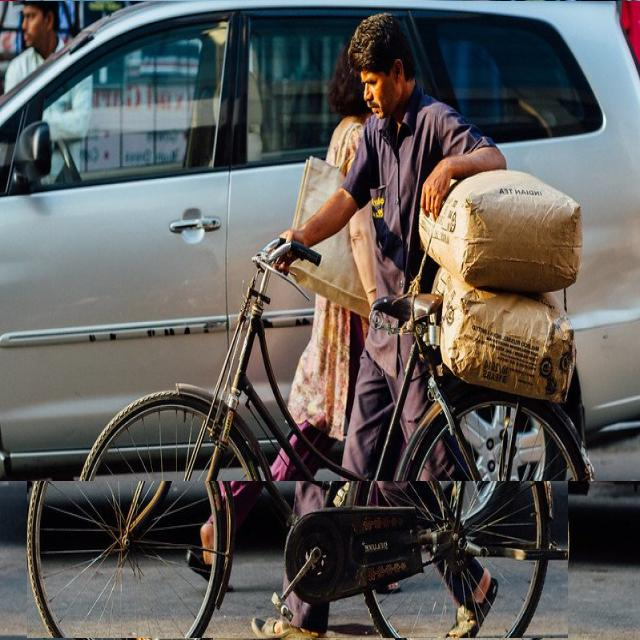bicycle: (28, 240, 568, 638)
car: (0, 2, 640, 481)
